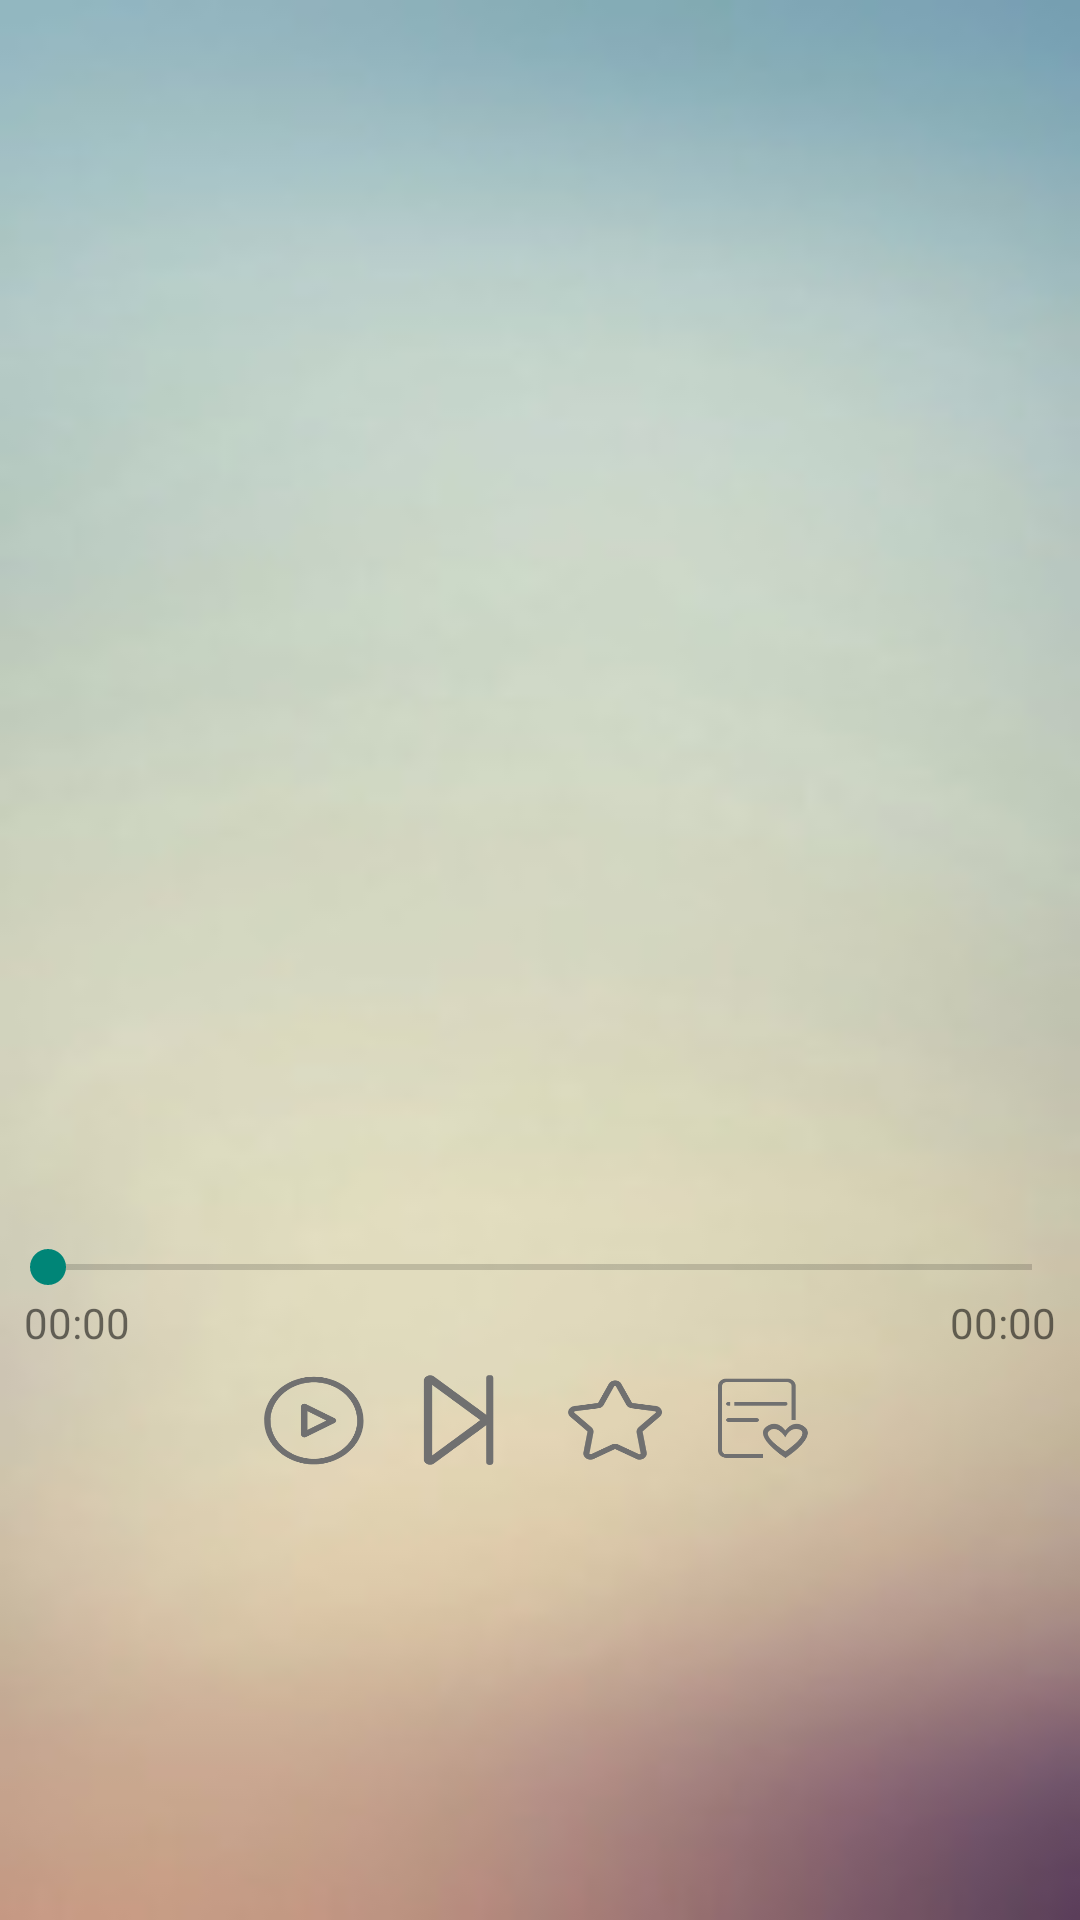

Icon click points for this 1080x1920 phone screenshot, format (x=x, y=y):
next: (x=459, y=1420)
save: (x=615, y=1420)
savelist: (x=763, y=1418)
start: (x=314, y=1421)
